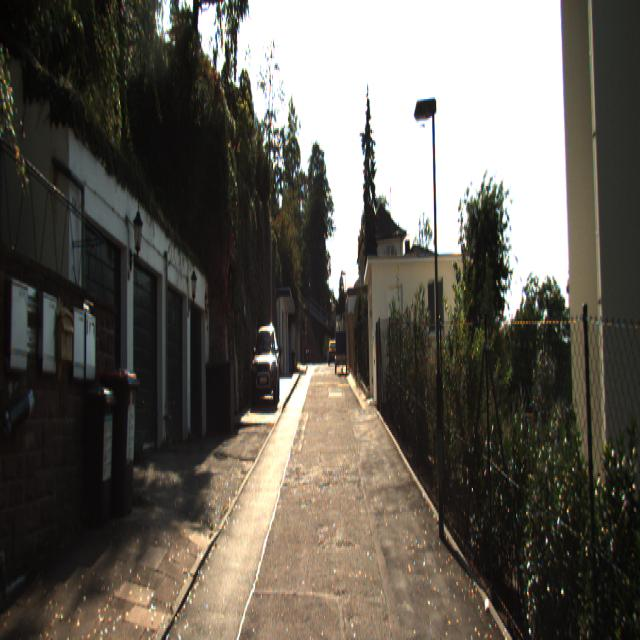Car: (250, 325, 280, 404), (336, 328, 348, 376)
